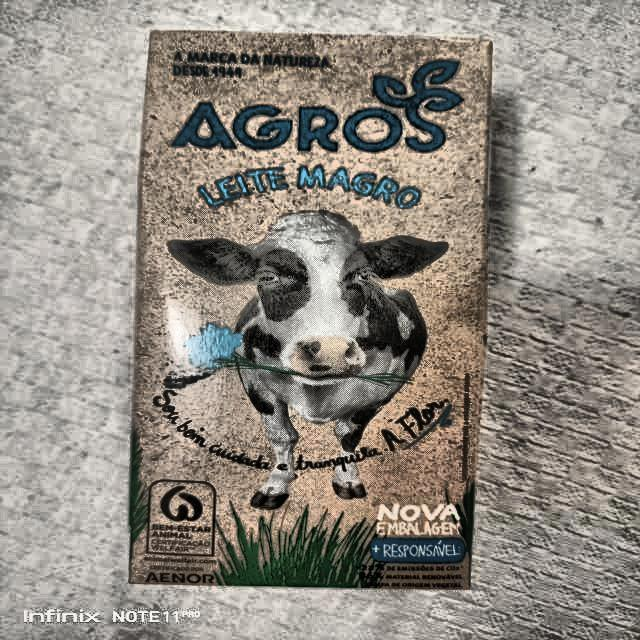cardboard: (129, 31, 492, 591)
